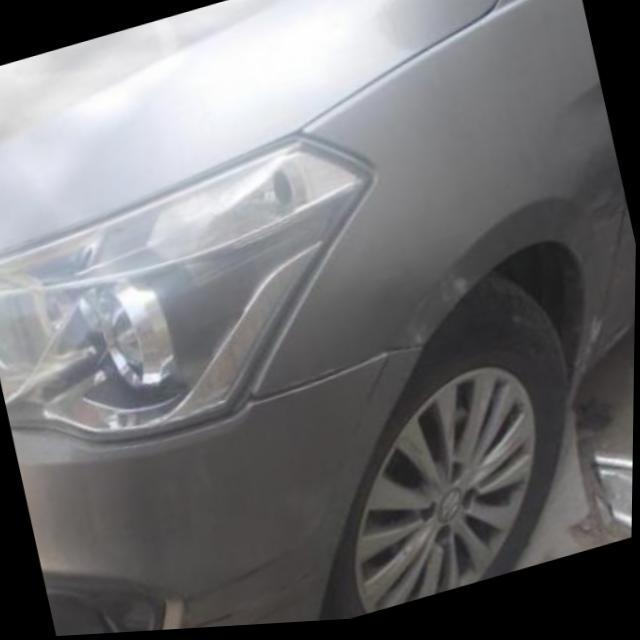crack: (347, 301, 433, 446)
dislocated part: (240, 341, 425, 416)
rub: (180, 530, 340, 631), (246, 596, 328, 628)
